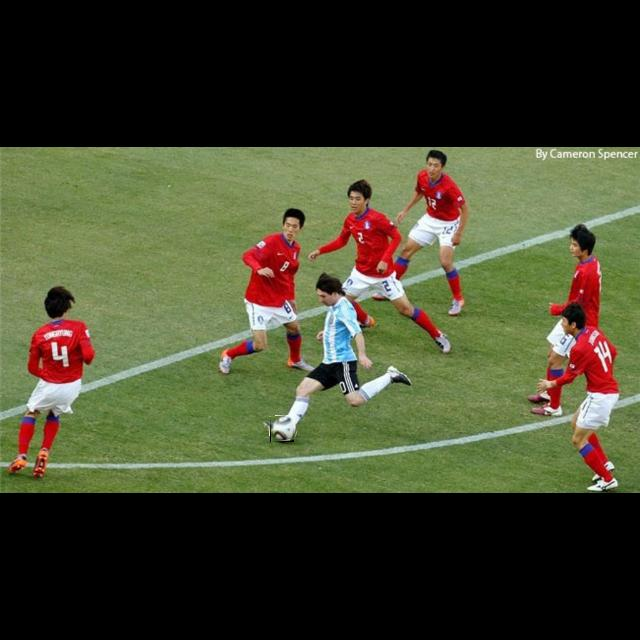Football: (270, 416, 294, 442)
